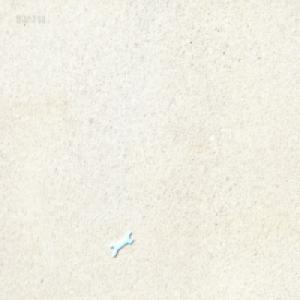Wrench: (111, 229, 133, 257)
